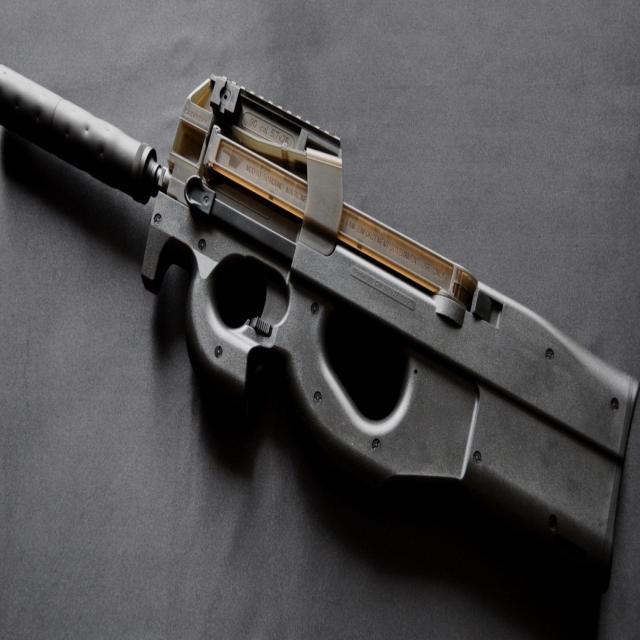Gun: (157, 60, 640, 640)
